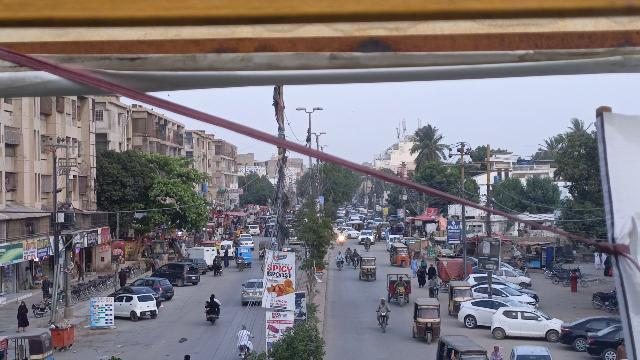Bike: (375, 310, 392, 334), (237, 344, 251, 360), (428, 284, 440, 298), (207, 311, 218, 326), (352, 255, 360, 270), (336, 258, 344, 272), (345, 254, 351, 267)
Car: (489, 304, 564, 343), (558, 313, 612, 352), (457, 296, 518, 329), (583, 318, 618, 360), (153, 261, 201, 288), (115, 293, 158, 322), (134, 275, 175, 300), (240, 278, 264, 307)
Cart: (385, 272, 413, 308)
Person: (15, 299, 30, 332), (235, 324, 254, 344), (205, 293, 221, 311), (416, 265, 426, 289), (376, 296, 392, 310), (489, 345, 502, 360), (393, 275, 408, 286), (428, 263, 437, 277), (428, 276, 439, 287), (335, 251, 344, 259), (352, 248, 360, 257), (345, 246, 352, 255)
Rickshaw: (410, 298, 443, 347), (434, 332, 490, 360), (3, 331, 54, 360), (446, 279, 475, 318), (357, 253, 379, 285), (389, 242, 410, 269)
Truck: (188, 244, 215, 267)
